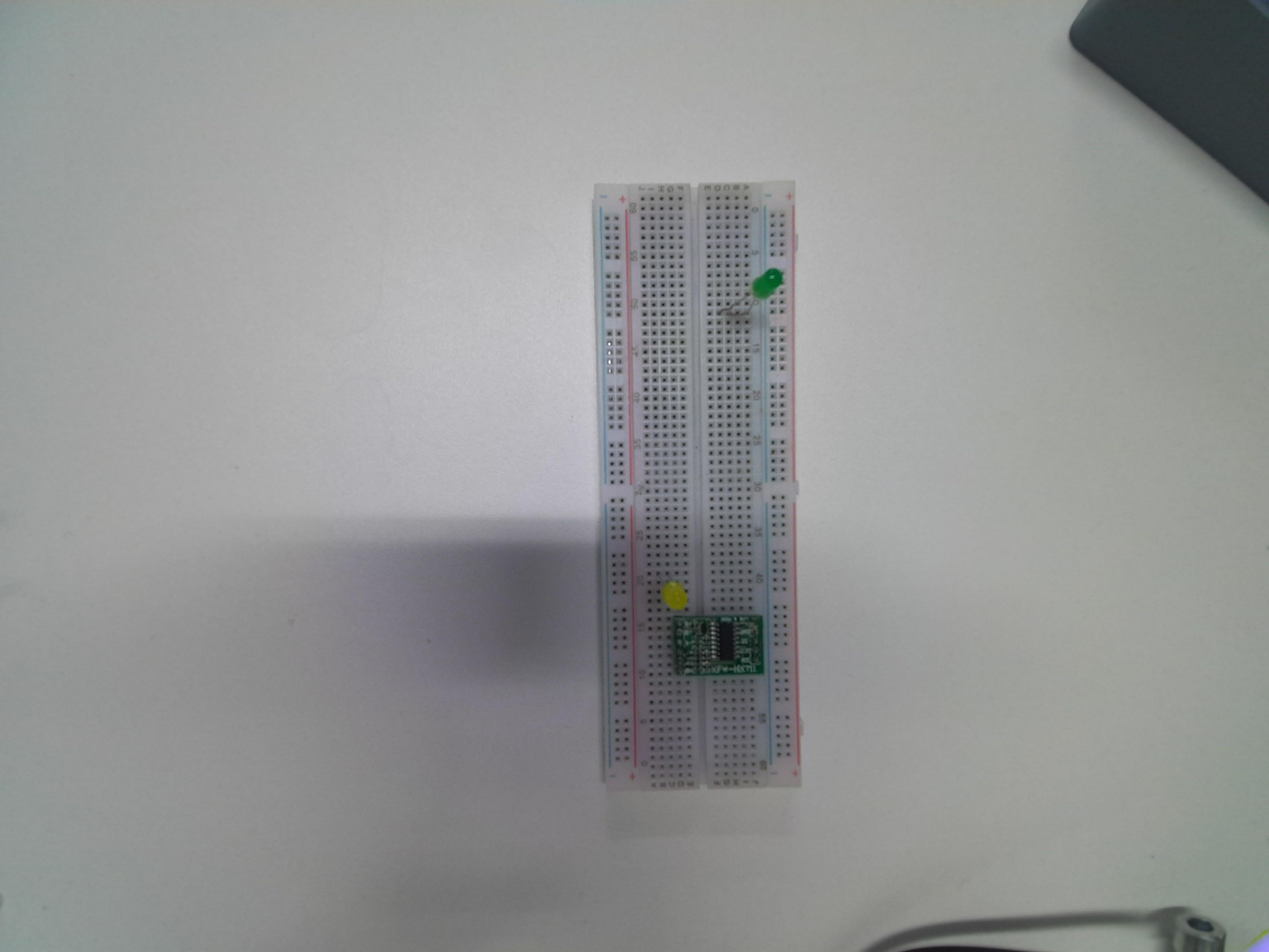base: (585, 177, 806, 801)
green-board: (666, 611, 766, 679)
green-led: (751, 262, 785, 310)
yellow-led: (657, 581, 690, 614)
